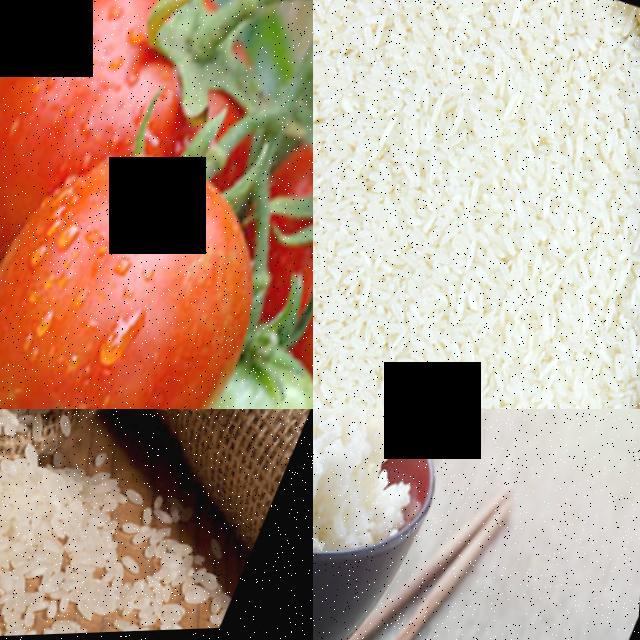tomato: (0, 112, 310, 409), (212, 74, 313, 409)
white rice: (313, 27, 640, 409), (0, 448, 140, 640), (313, 409, 438, 568)
